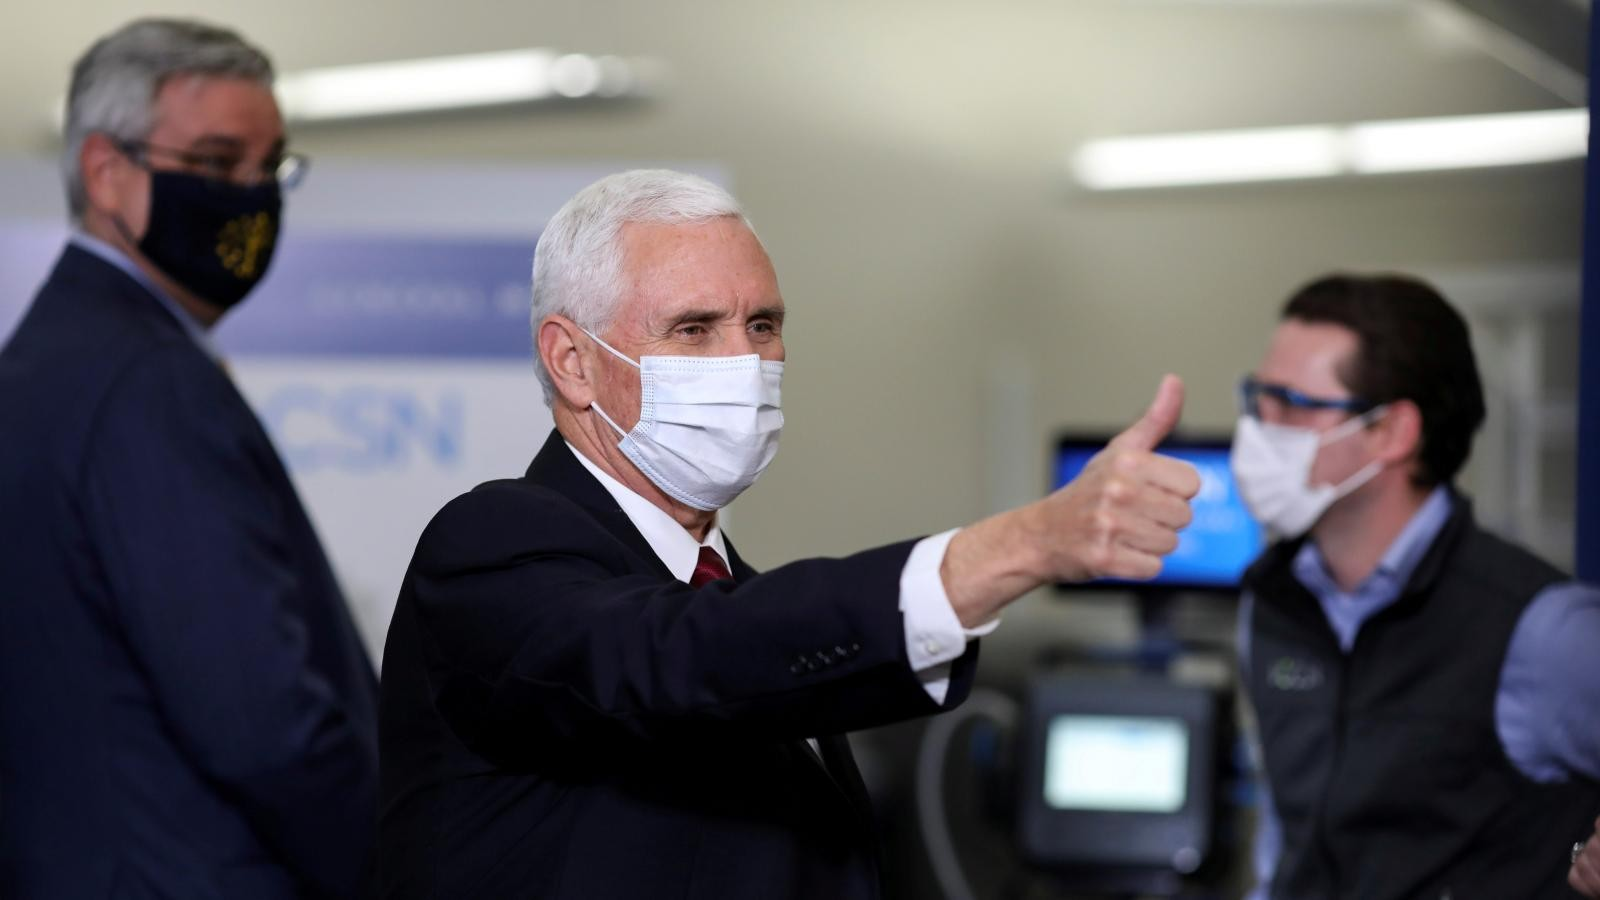with_mask: (617, 301, 791, 515), (125, 126, 294, 313), (1226, 365, 1346, 541)
